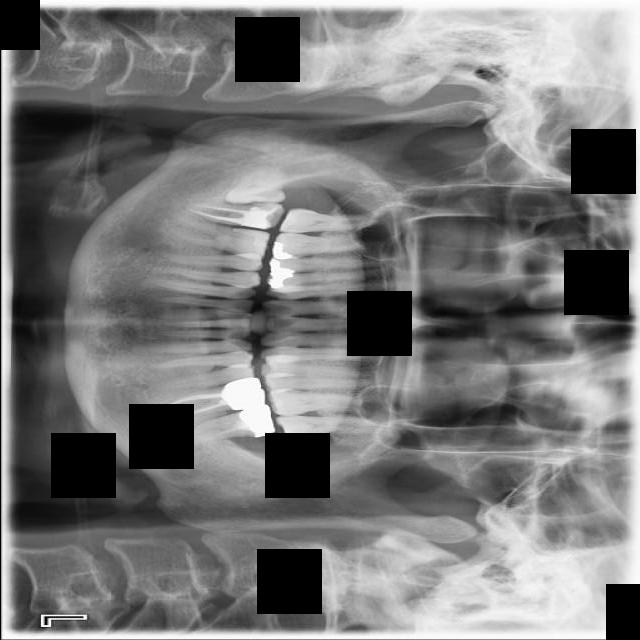52: (217, 375, 267, 416), (225, 225, 270, 262), (238, 198, 285, 232), (233, 403, 275, 441), (268, 228, 307, 265), (266, 271, 299, 289), (267, 257, 298, 273)
73: (152, 383, 233, 426), (175, 410, 251, 447), (184, 200, 247, 226), (63, 612, 67, 615)
BioHorizons Implant: (275, 414, 377, 444)
Blue Sky Bio Implant: (173, 403, 275, 450)
Caries: (278, 208, 381, 236)
Implant: (183, 201, 282, 230)
Keystone Dental Implant: (223, 166, 285, 209)
